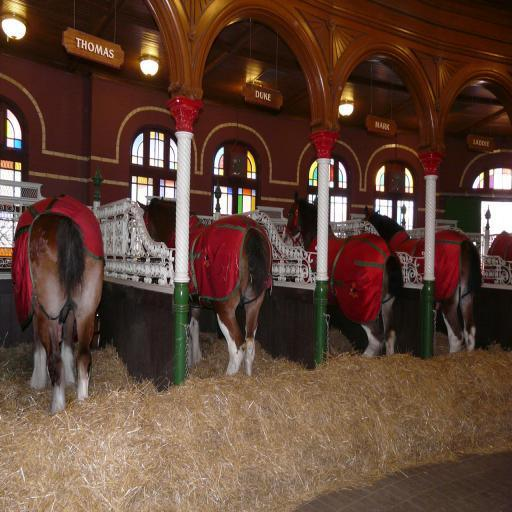horse: (137, 191, 268, 379), (280, 188, 406, 358), (12, 191, 102, 415), (362, 202, 484, 354)
